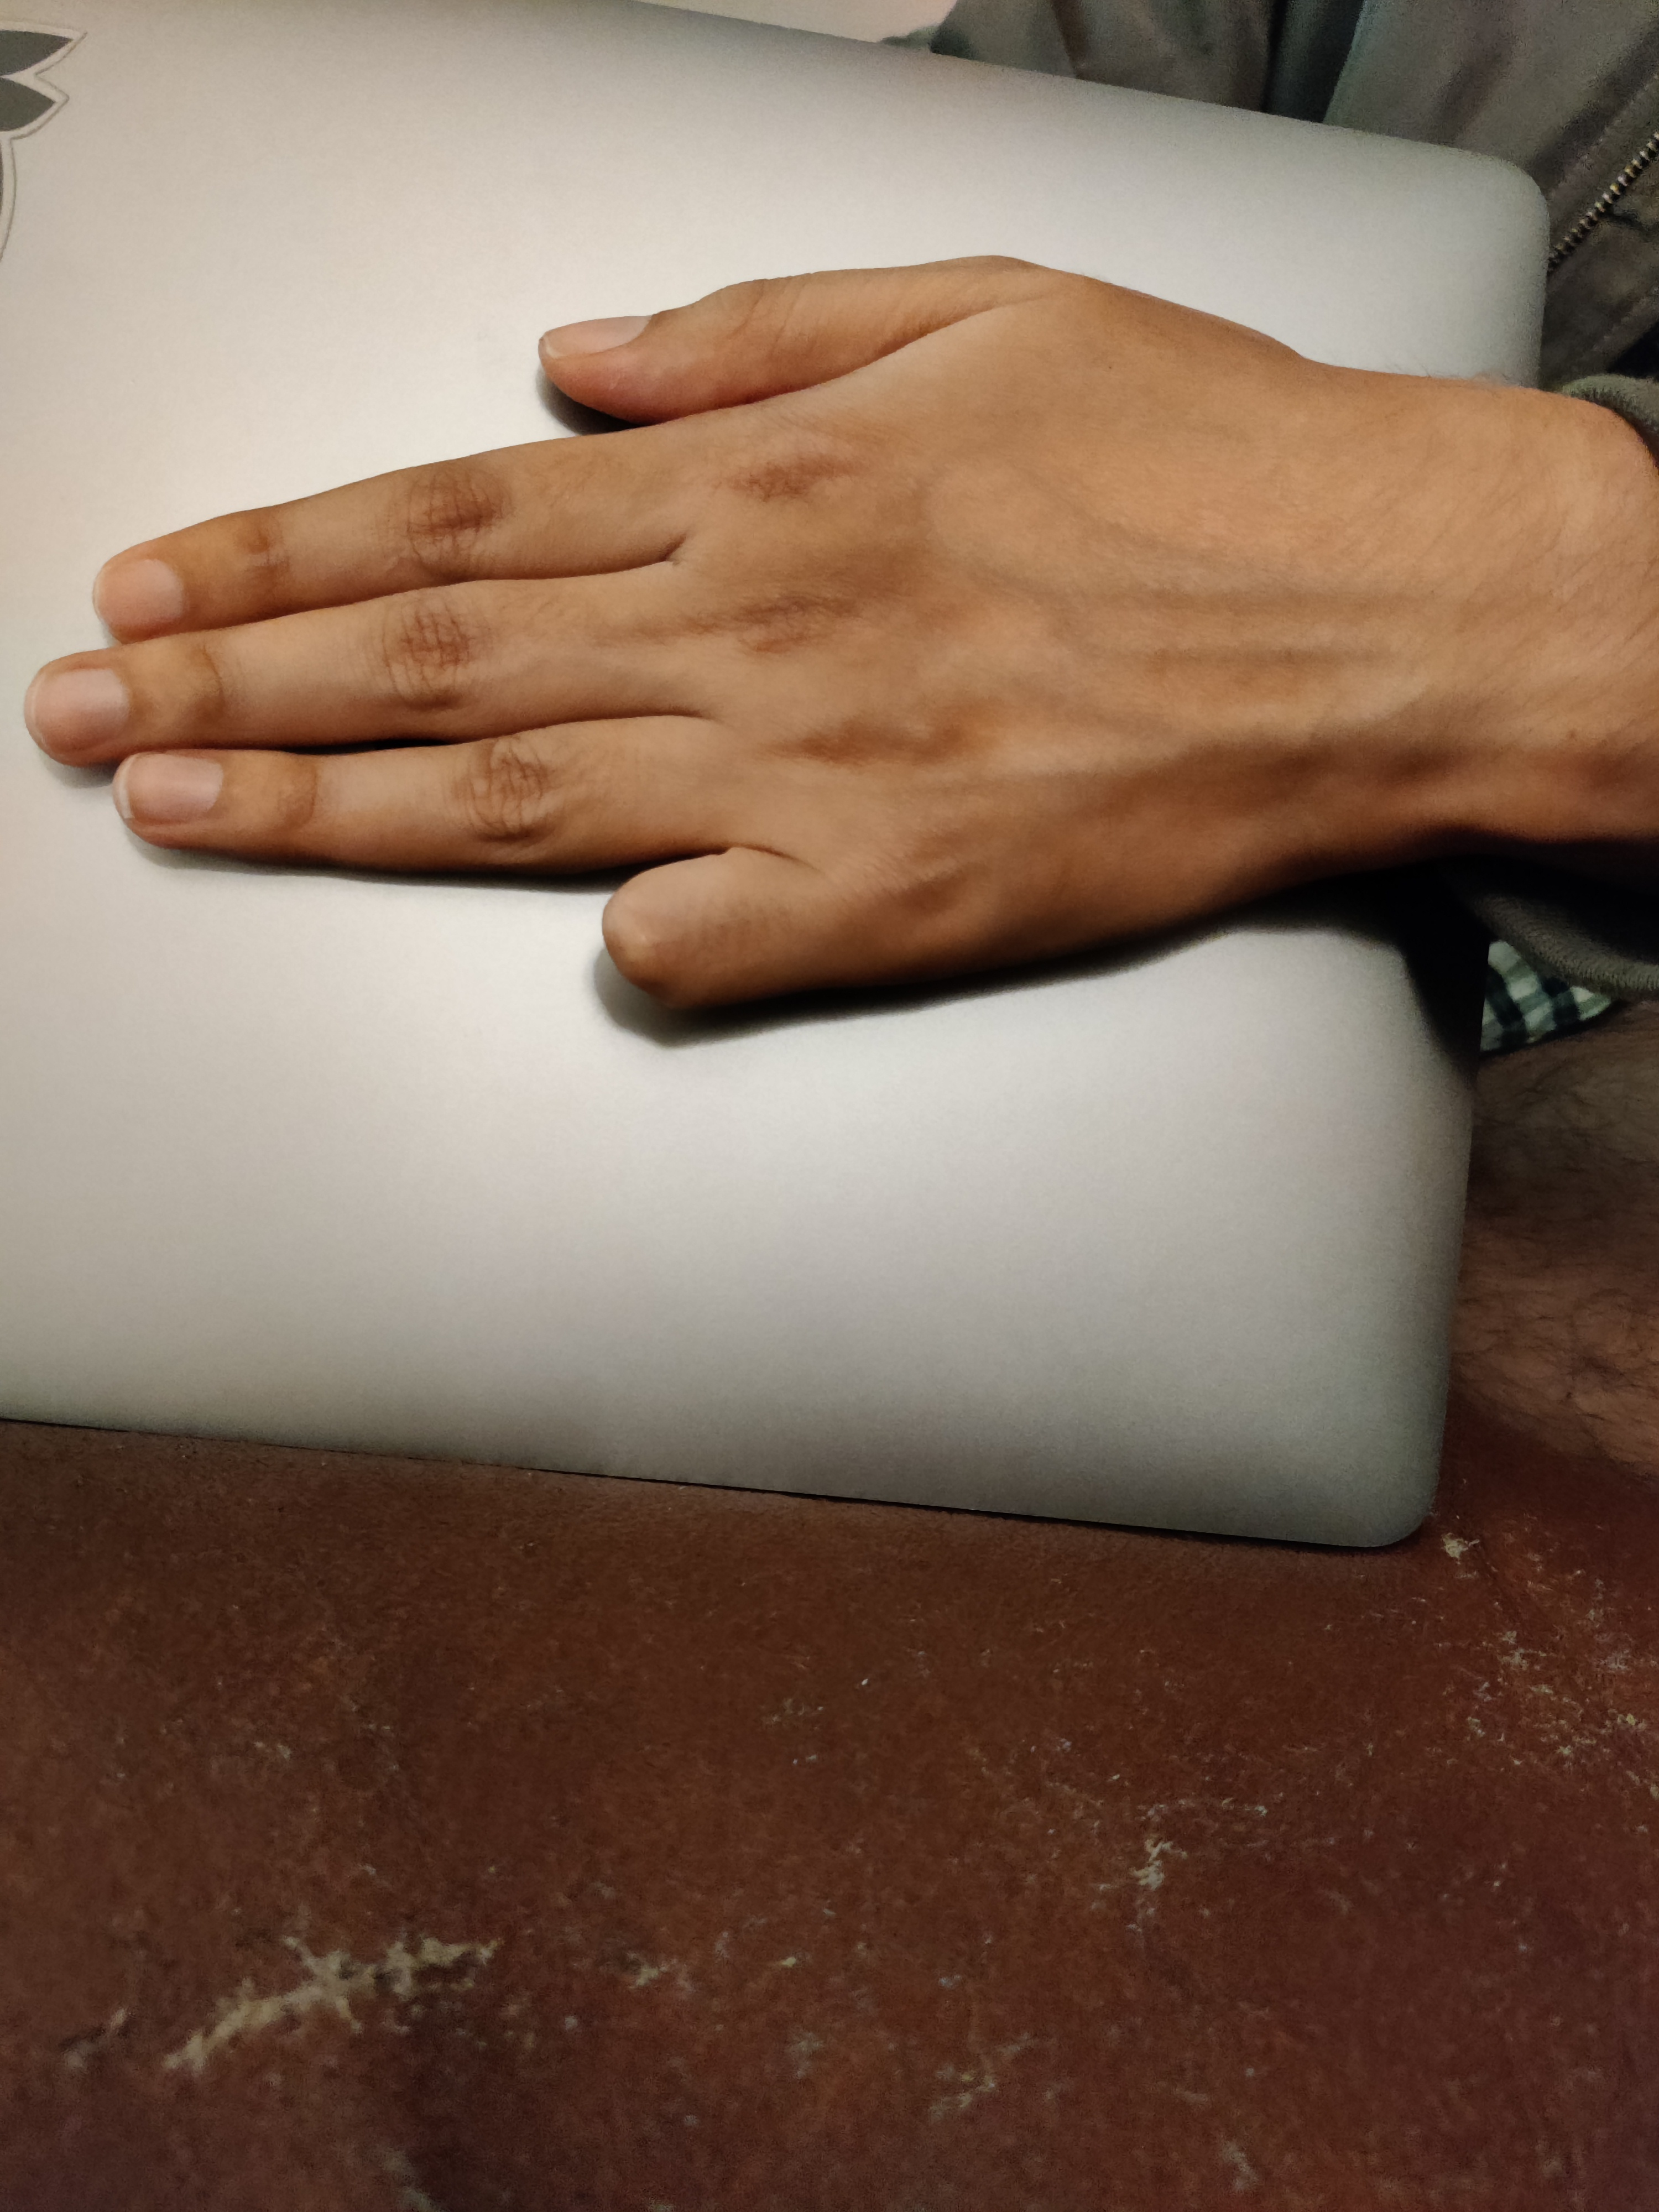right: (12, 199, 1584, 1165)
